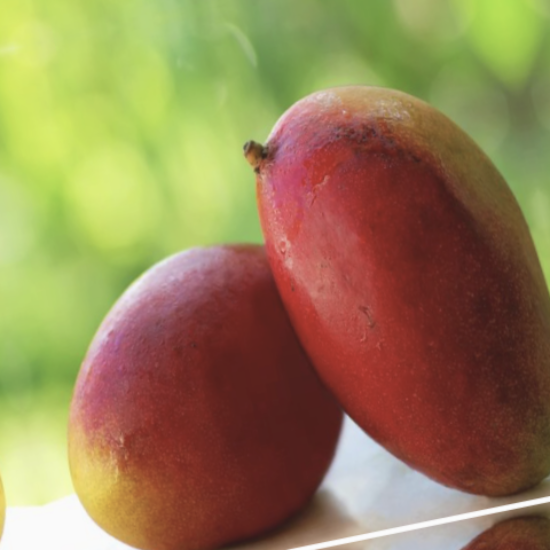mango: (202, 46, 550, 550), (3, 213, 407, 550)
